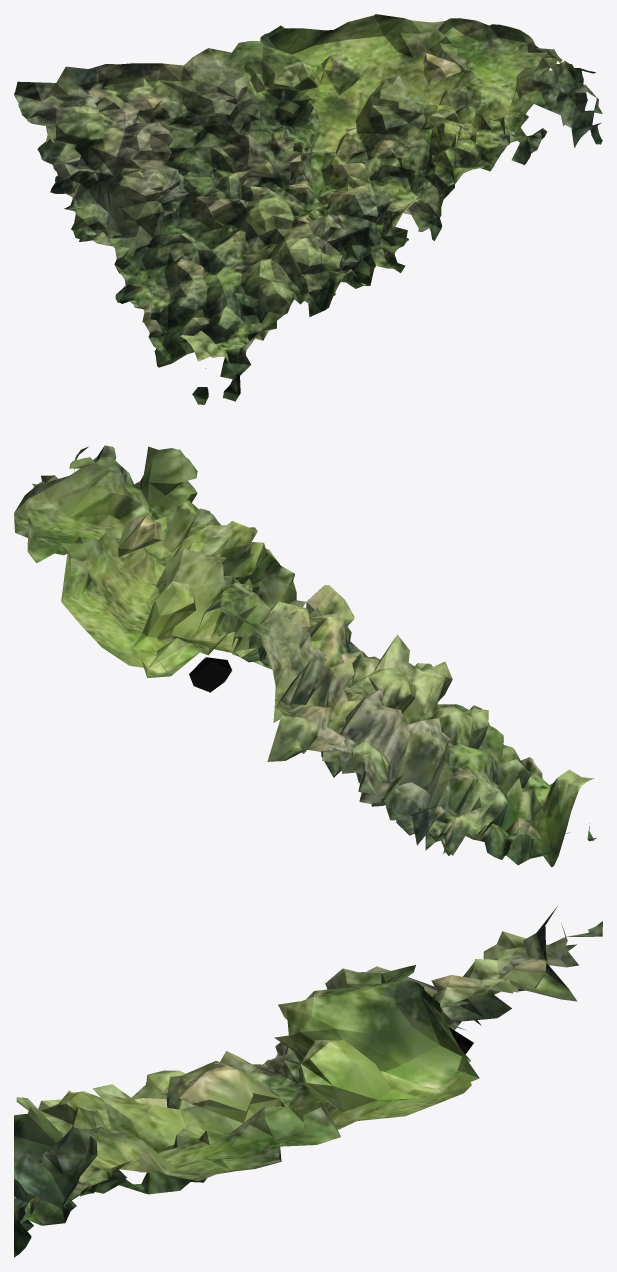
3 renders of one model, top to bottom at view 1: azimuth 30°, elevation 25°; view 2: azimuth 150°, elevation 25°; view 3: azimuth 270°, elevation 25°, orthographic. The views are drawn at different scales.
Bounding box in the file's own units: 104 × 57.99 × 82.15.
Materials: 4 (4 with a texture image).
